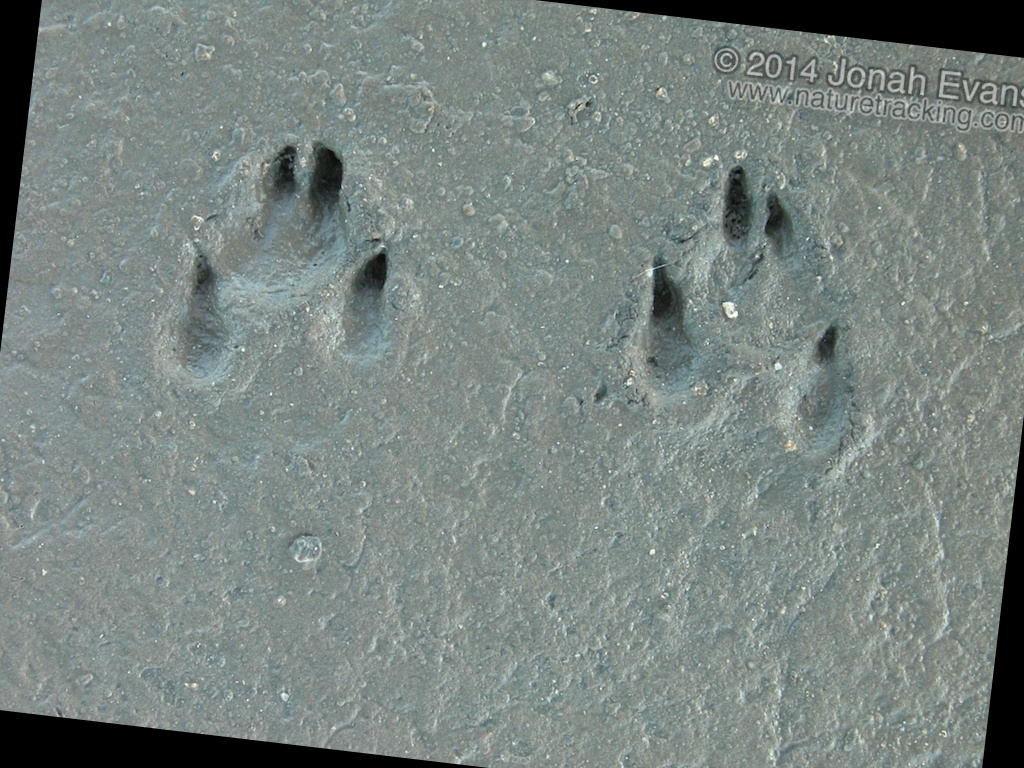rabbit: (560, 137, 910, 506), (126, 93, 453, 448)
